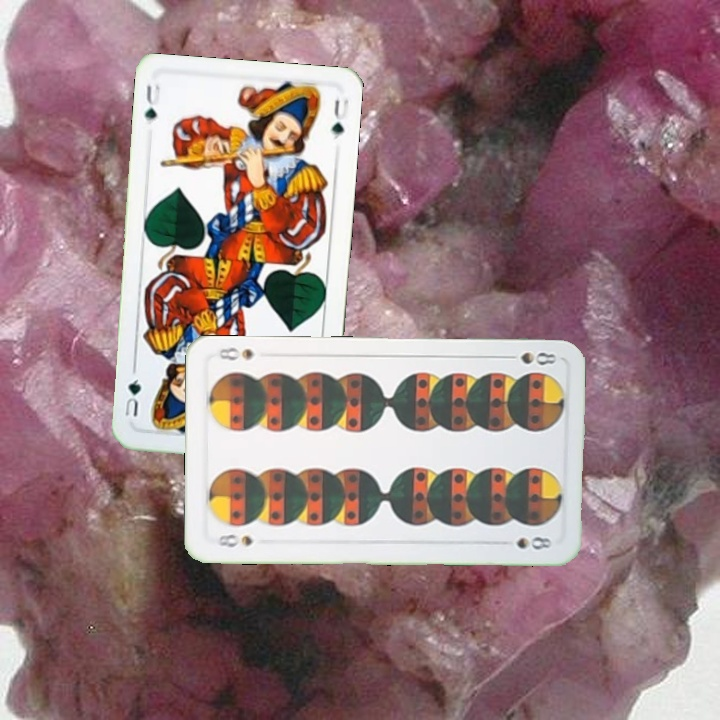GU: (141, 80, 163, 124)
S8: (500, 347, 559, 368), (210, 529, 256, 550)
